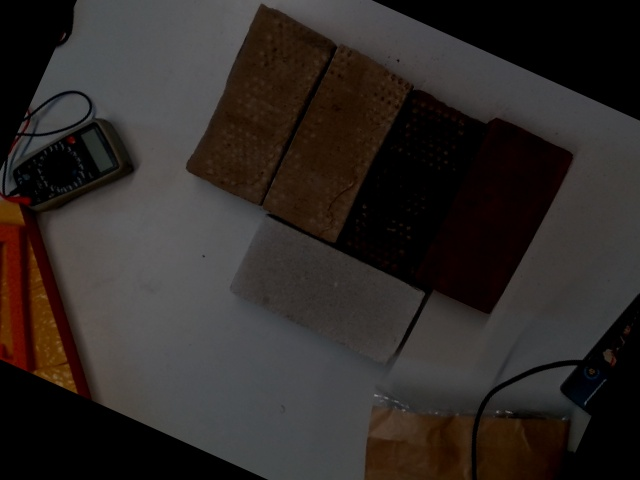brick: (420, 124, 568, 315), (266, 51, 408, 239), (234, 221, 417, 363), (190, 13, 328, 199), (344, 95, 476, 272)
